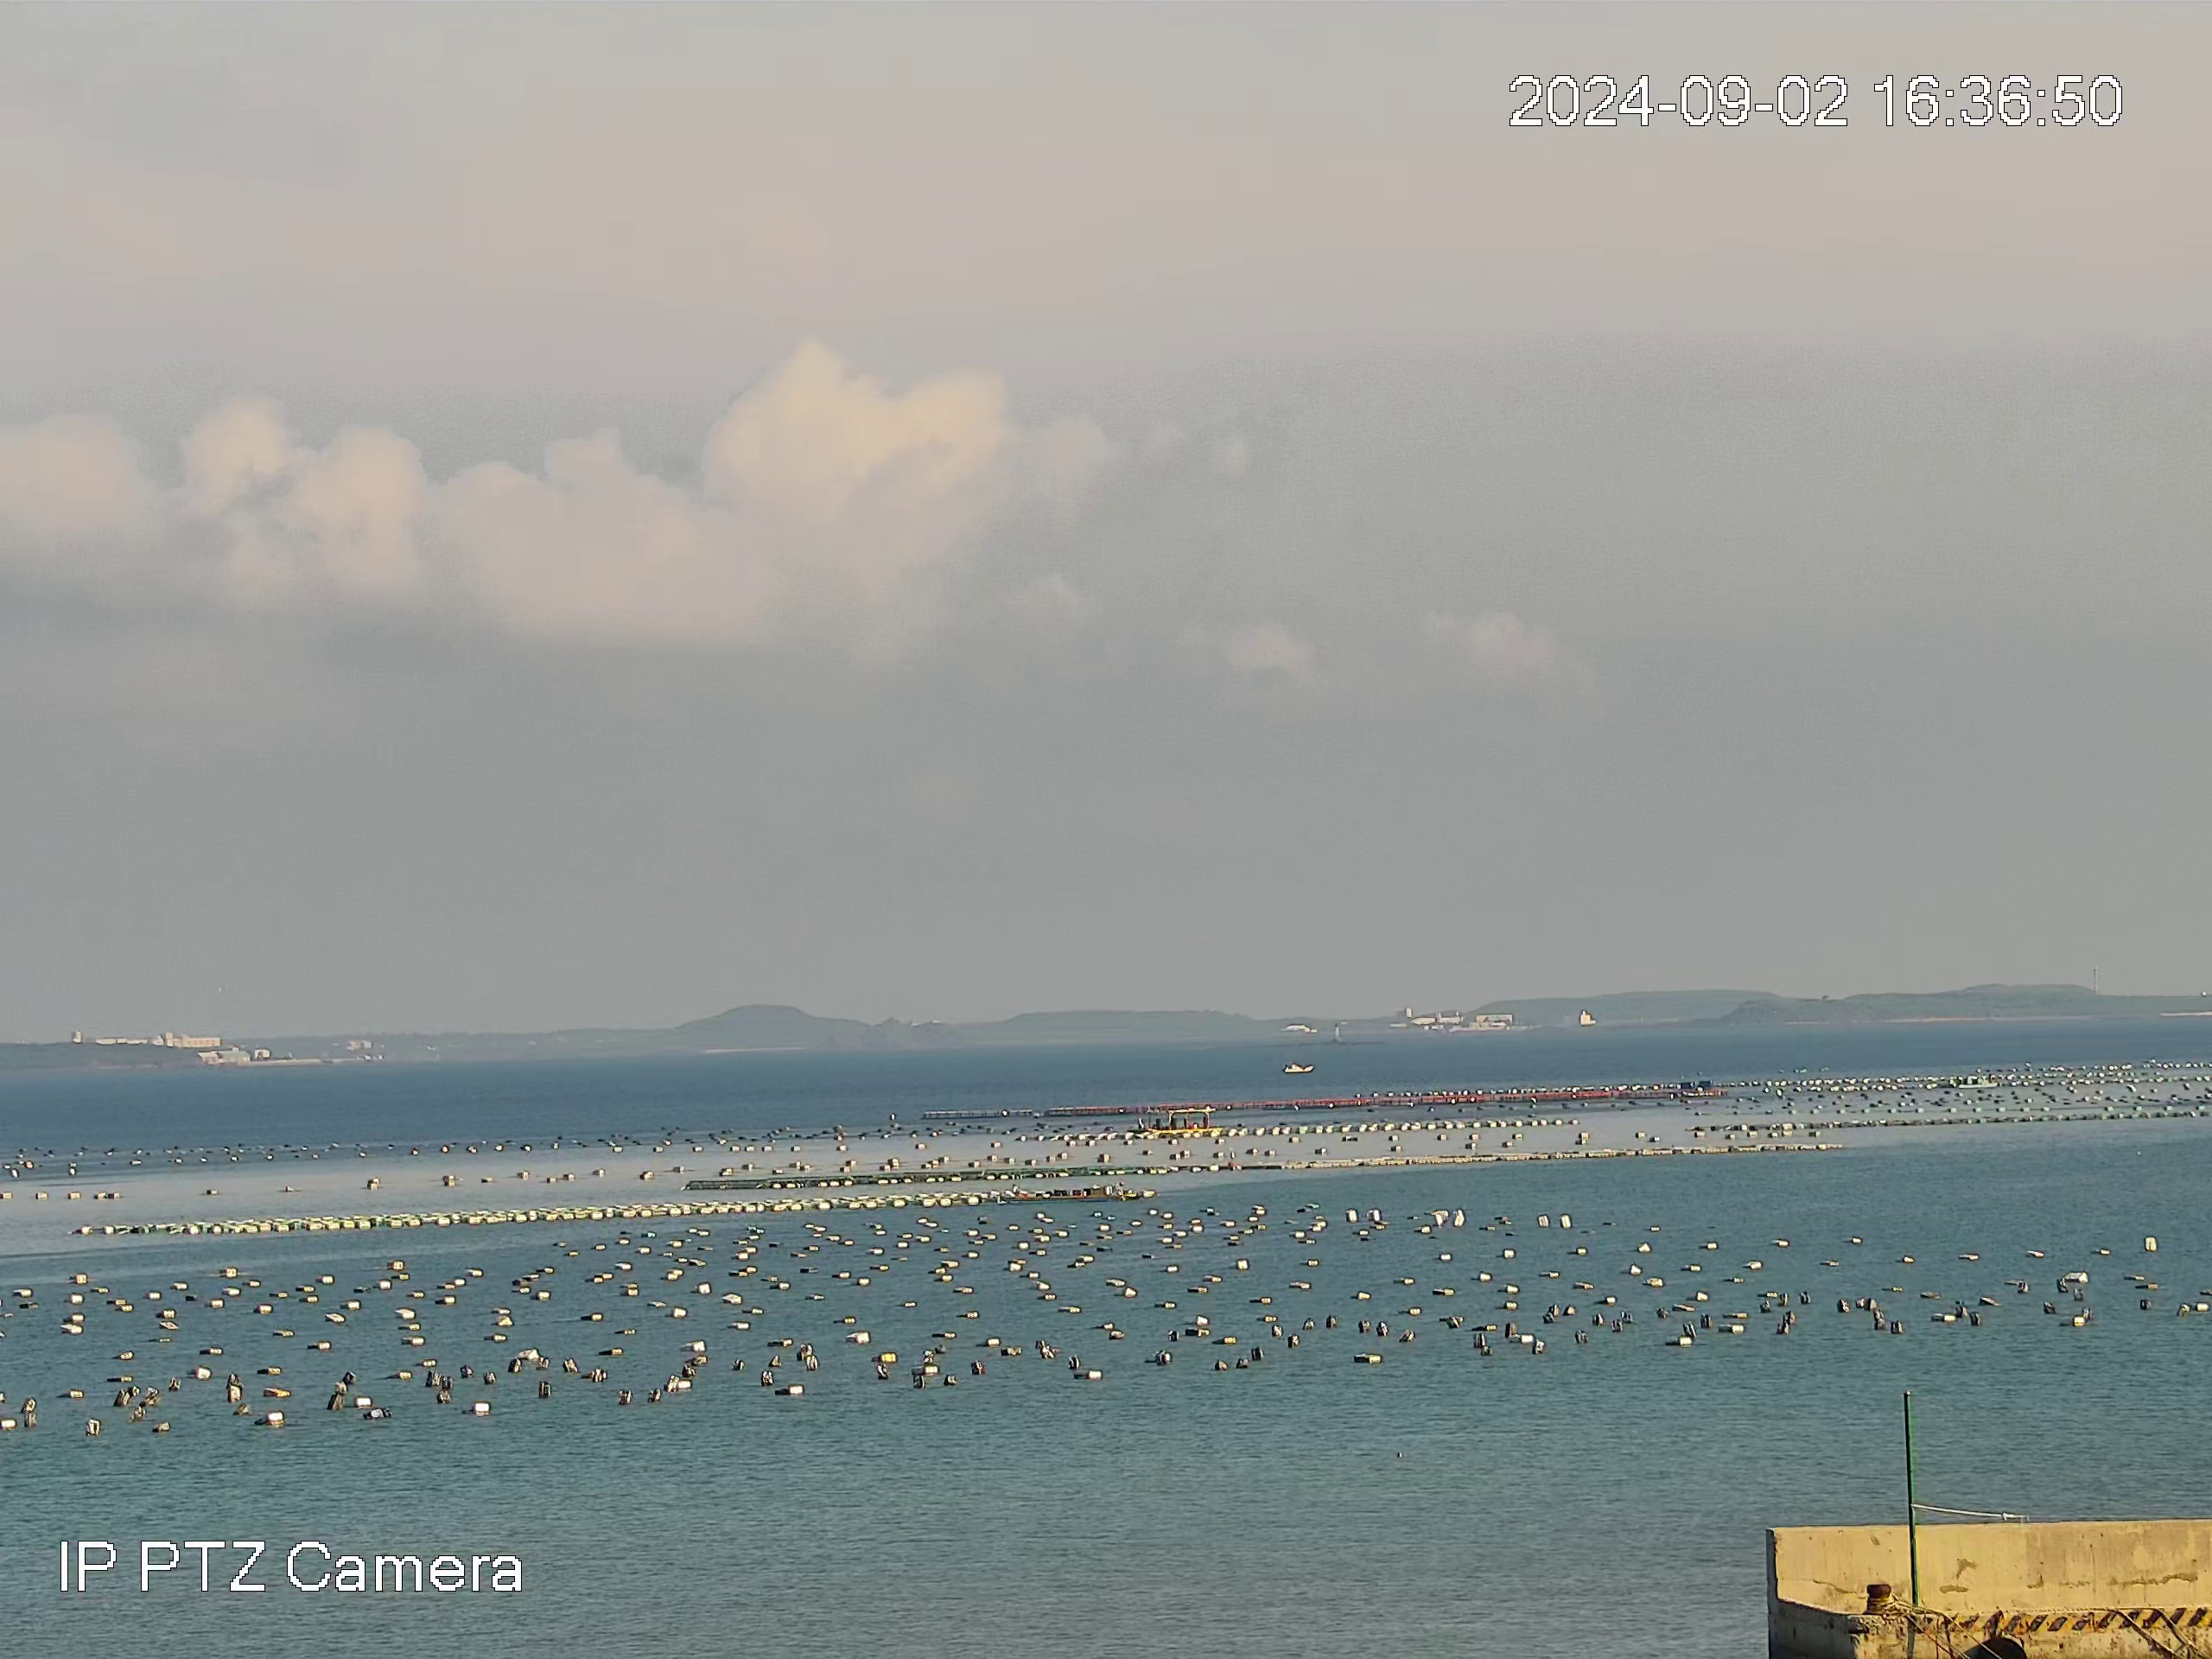boat: (1146, 1105, 1223, 1133), (1956, 1075, 1998, 1089), (1280, 1061, 1315, 1073)
